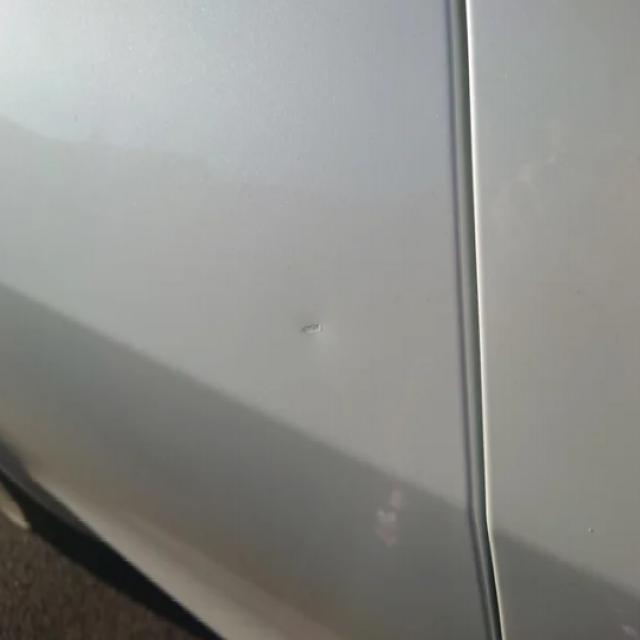dents: (342, 466, 431, 564), (286, 291, 366, 376)
